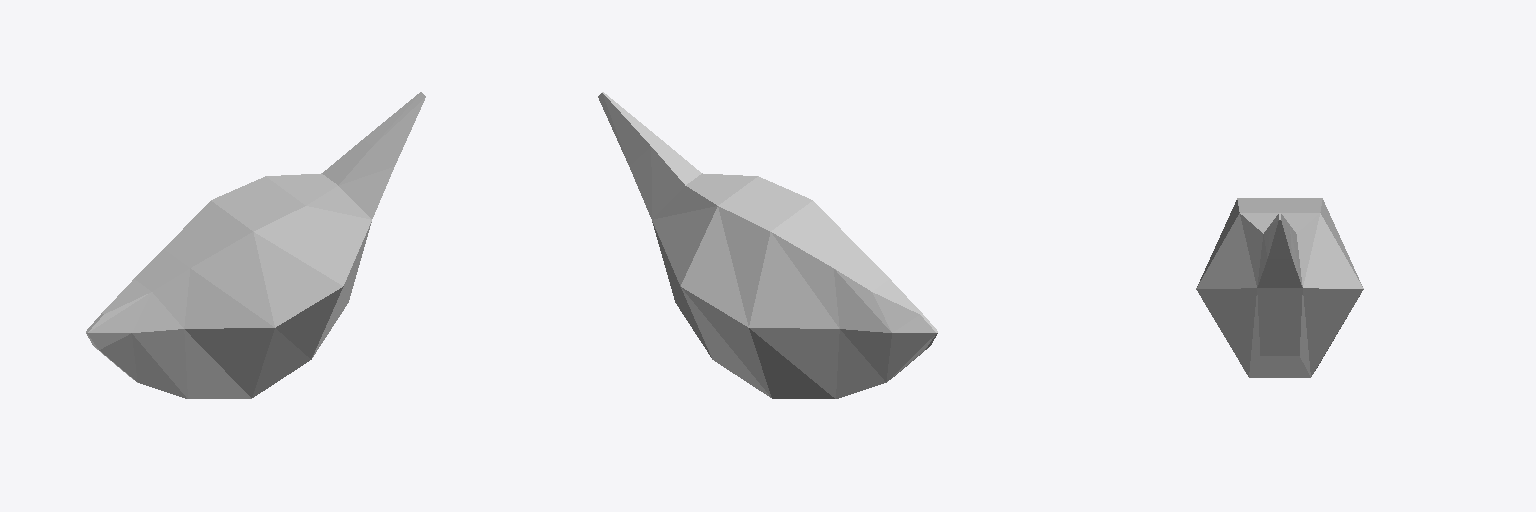
File: MODEL_ranunculusSeed_G4_1.obj
3 renders of one model, left to right at view 1: azimuth 30°, elevation 25°; view 2: azimuth 150°, elevation 25°; view 3: azimuth 270°, elevation 25°, orthographic.
Parts seen in each view (by area): view 1: geo_seed_low; view 2: geo_seed_low; view 3: geo_seed_low.
Boxes of the visible parts, <box> form: geo_seed_low: <box>86,92,425,398</box>; geo_seed_low: <box>598,92,937,398</box>; geo_seed_low: <box>1196,198,1363,377</box>.
Size of the model in its own units: 1.44 by 1 by 0.6173.